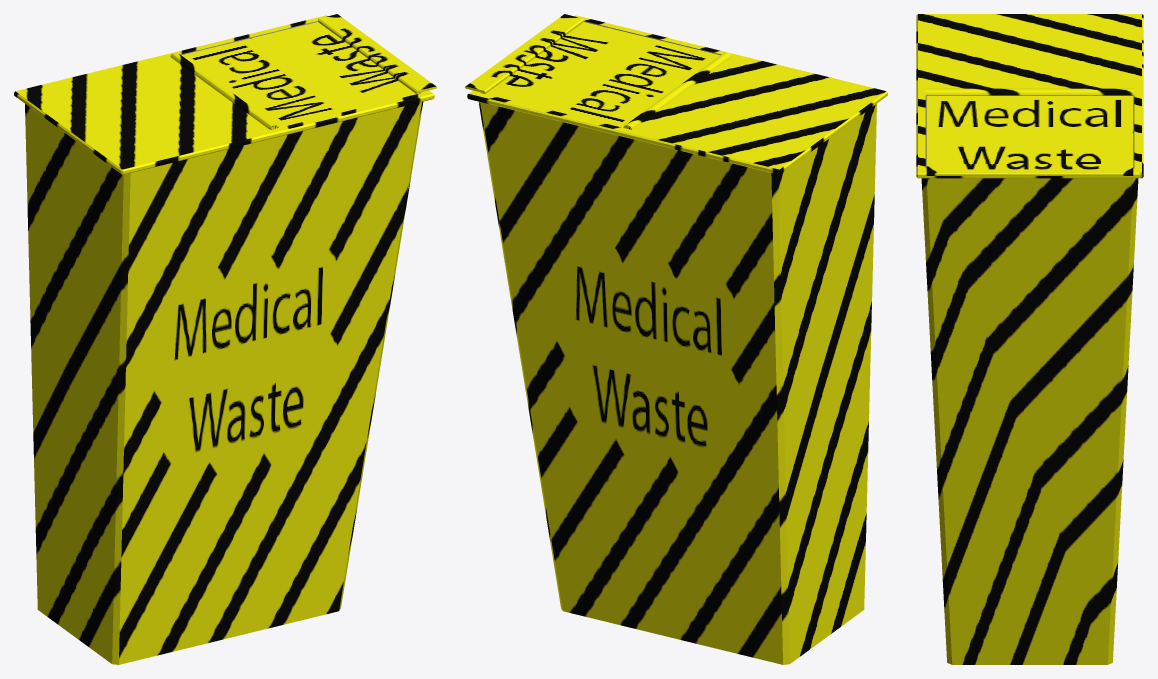
File: Medical Waste Bin.fbx
3 renders of one model, left to right at view 1: azimuth 30°, elevation 25°; view 2: azimuth 150°, elevation 25°; view 3: azimuth 270°, elevation 25°, orthographic. The views are drawn at different scales.
Parts seen in each view (by area): view 1: pCube1, pCube2; view 2: pCube1, pCube2; view 3: pCube1, pCube2.
Boxes of the visible parts, box(x1,y1,x2,y2) form: pCube1: box(14, 15, 434, 664); pCube2: box(181, 14, 436, 127); pCube1: box(467, 15, 887, 664); pCube2: box(465, 14, 720, 127); pCube1: box(916, 14, 1143, 664); pCube2: box(926, 96, 1133, 175).
Size of the model in its own units: 0.5327 by 0.8143 by 0.3134.
2 materials, 1 textured.
